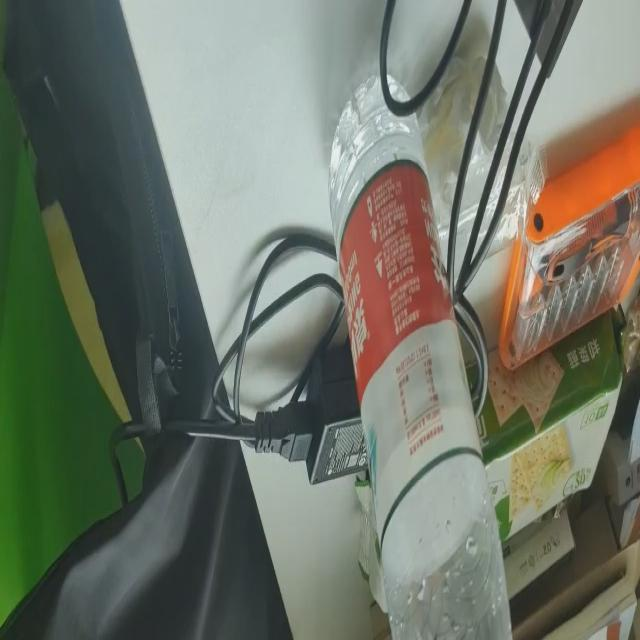plastic: (322, 71, 518, 640)
